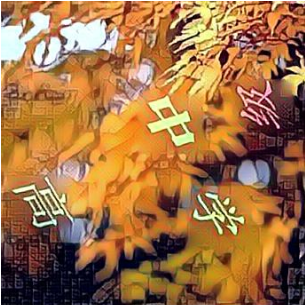hanzi: (11, 167, 76, 238), (188, 182, 252, 246), (135, 91, 202, 152), (235, 73, 286, 145)
